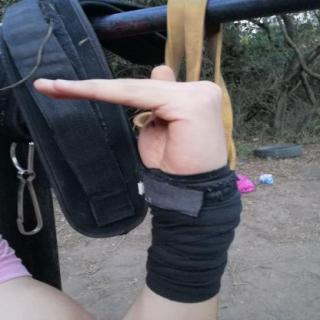KHAA: (24, 57, 248, 185)
